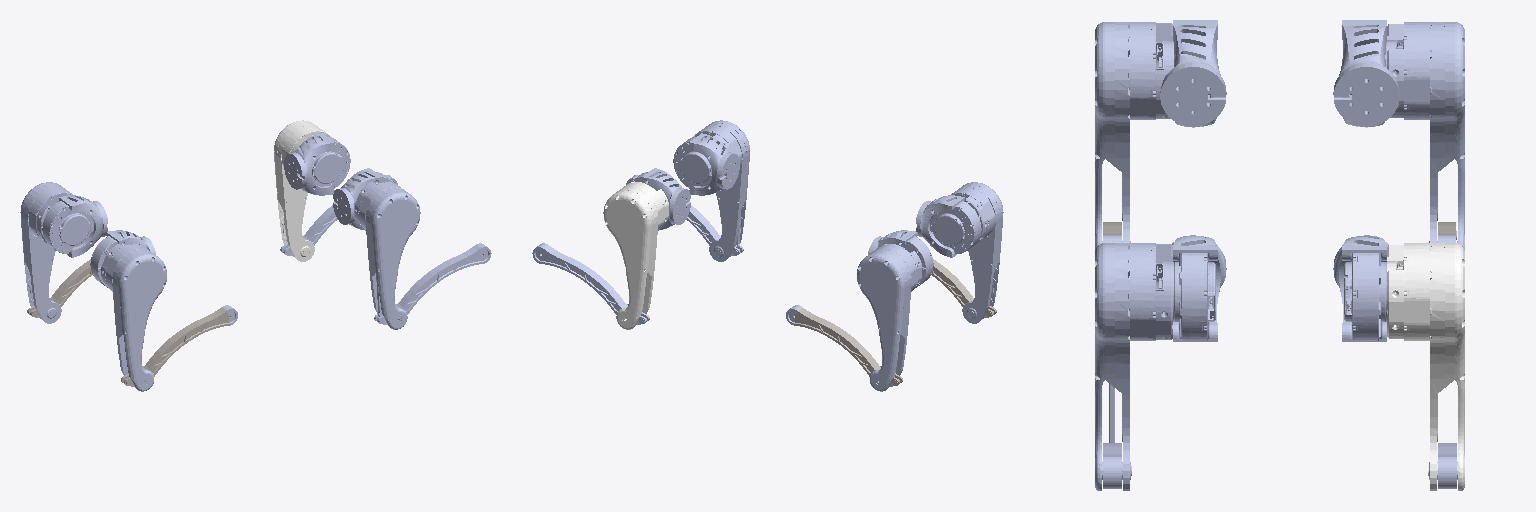
robot.urdf — GO2:
<?xml version='1.0' encoding='utf-8'?>
<robot name="GO2">
  <link name="base_link">
    <visual>
      <origin xyz="0 0 0" rpy="0 0 0" />
      <geometry>
        <mesh filename="meshes/base_link.STL" />
      </geometry>
      <material name="auto_material_01">
        <color rgba="1.00000000 1.00000000 1.00000000 1.00000000" />
      </material>
    </visual>
    <inertial>
      <origin xyz="0.0089931 0.0049655 -0.0088502" rpy="0 0 0" />
      <mass value="4.1255996" />
      <inertia ixx="0.0095235" ixy="-0.0000055" ixz="0.0000001" iyy="0.0116817" iyz="0" izz="0.0165032" />
    </inertial>
  </link>
  <link name="FL_hip">
    <visual>
      <origin xyz="0 0 0" rpy="0 0 0" />
      <geometry>
        <mesh filename="meshes/FL_hip.STL" />
      </geometry>
      <material name="auto_material_02">
        <color rgba="0.79608000 0.82353000 0.93725000 1.00000000" />
      </material>
    </visual>
    <inertial>
      <origin xyz="0.047304 -0.0004014 0.0000785" rpy="0 0 0" />
      <mass value="0.29039" />
      <inertia ixx="0.0002169" ixy="-0.000003" ixz="0.0000004" iyy="0.0003315" iyz="0" izz="0.000175" />
    </inertial>
  </link>
  <link name="FL_thigh">
    <visual>
      <origin xyz="0 0 0" rpy="0 0 0" />
      <geometry>
        <mesh filename="meshes/FL_thigh.STL" />
      </geometry>
      <material name="auto_material_03">
        <color rgba="1.00000000 1.00000000 1.00000000 1.00000000" />
      </material>
    </visual>
    <inertial>
      <origin xyz="-0.0028202 0.042698 -0.0252155" rpy="0 0 0" />
      <mass value="0.5538004" />
      <inertia ixx="0.0013035" ixy="0.0000011" ixz="0.0000788" iyy="0.0015743" iyz="0.0000081" izz="0.0002945" />
    </inertial>
  </link>
  <link name="FL_calf">
    <visual>
      <origin xyz="0 0 0" rpy="0 0 0" />
      <geometry>
        <mesh filename="meshes/FL_calf.STL" />
      </geometry>
      <material name="auto_material_04">
        <color rgba="0.79608000 0.82353000 0.93725000 1.00000000" />
      </material>
    </visual>
    <inertial>
      <origin xyz="0.0095591 0.0000034 -0.077011" rpy="0 0 0" />
      <mass value="0.083926" />
      <inertia ixx="0.0003532" ixy="0" ixz="-0.0000119" iyy="0.0003585" iyz="0" izz="0.0000093" />
    </inertial>
  </link>
  <link name="FL_foot">
    <visual>
      <origin xyz="0 0 0" rpy="0 0 0" />
      <geometry>
        <mesh filename="meshes/FL_foot.STL" />
      </geometry>
      <material name="auto_material_05">
        <color rgba="0.79607843 0.82352941 0.93725490 1.00000000" />
      </material>
    </visual>
    <collision>
      <origin xyz="-0.0000126 0 0.0118098" rpy="0 0 0" />
      <geometry>
        <sphere radius="0.014796" />
      </geometry>
    </collision>
    <inertial>
      <origin xyz="-0.0011417 0 0.0103123" rpy="0 0 0" />
      <mass value="0.0083244" />
      <inertia ixx="0.0000004" ixy="0" ixz="-0.0000001" iyy="0.0000009" iyz="0" izz="0.0000008" />
    </inertial>
  </link>
  <link name="FR_hip">
    <visual>
      <origin xyz="0 0 0" rpy="0 0 0" />
      <geometry>
        <mesh filename="meshes/FR_hip.STL" />
      </geometry>
      <material name="auto_material_06">
        <color rgba="0.79607843 0.82352941 0.93725490 1.00000000" />
      </material>
    </visual>
    <inertial>
      <origin xyz="0.0473043 0.0003998 -0.0000521" rpy="0 0 0" />
      <mass value="0.2903942" />
      <inertia ixx="0.0002169" ixy="0.000003" ixz="-0.0000004" iyy="0.0003315" iyz="0" izz="0.000175" />
    </inertial>
  </link>
  <link name="FR_thigh">
    <visual>
      <origin xyz="0 0 0" rpy="0 0 0" />
      <geometry>
        <mesh filename="meshes/FR_thigh.STL" />
      </geometry>
      <material name="auto_material_07">
        <color rgba="0.79608000 0.82353000 0.93725000 1.00000000" />
      </material>
    </visual>
    <inertial>
      <origin xyz="-0.0032999 -0.042913 -0.026306" rpy="0 0 0" />
      <mass value="0.56127" />
      <inertia ixx="0.00132" ixy="-0.0000011" ixz="0.0000812" iyy="0.0015926" iyz="-0.0000082" izz="0.0002964" />
    </inertial>
  </link>
  <link name="FR_calf">
    <visual>
      <origin xyz="0 0 0" rpy="0 0 0" />
      <geometry>
        <mesh filename="meshes/FR_calf.STL" />
      </geometry>
      <material name="auto_material_08">
        <color rgba="0.79607843 0.82352941 0.93725490 1.00000000" />
      </material>
    </visual>
    <inertial>
      <origin xyz="0.0095591 -0.000005 -0.0770108" rpy="0 0 0" />
      <mass value="0.0839255" />
      <inertia ixx="0.0003532" ixy="0" ixz="-0.0000119" iyy="0.0003585" iyz="0" izz="0.0000093" />
    </inertial>
  </link>
  <link name="FR_foot">
    <visual>
      <origin xyz="0 0 0" rpy="0 0 0" />
      <geometry>
        <mesh filename="meshes/FR_foot.STL" />
      </geometry>
      <material name="auto_material_09">
        <color rgba="0.79607843 0.82352941 0.93725490 1.00000000" />
      </material>
    </visual>
    <collision>
      <origin xyz="-0.0000126 0 0.0118098" rpy="0 0 0" />
      <geometry>
        <sphere radius="0.014796" />
      </geometry>
    </collision>
    <inertial>
      <origin xyz="-0.0011417 0 0.0103123" rpy="0 0 0" />
      <mass value="0.0083244" />
      <inertia ixx="0.0000004" ixy="0" ixz="-0.0000001" iyy="0.0000009" iyz="0" izz="0.0000008" />
    </inertial>
  </link>
  <link name="RL_hip">
    <visual>
      <origin xyz="0 0 0" rpy="0 0 0" />
      <geometry>
        <mesh filename="meshes/RL_hip.STL" />
      </geometry>
      <material name="auto_material_10">
        <color rgba="0.79607843 0.82352941 0.93725490 1.00000000" />
      </material>
    </visual>
    <inertial>
      <origin xyz="-0.0473043 -0.0004014 -0.0000785" rpy="0 0 0" />
      <mass value="0.2903942" />
      <inertia ixx="0.0002169" ixy="0.000003" ixz="0.0000004" iyy="0.0003315" iyz="0" izz="0.000175" />
    </inertial>
  </link>
  <link name="RL_thigh">
    <visual>
      <origin xyz="0 0 0" rpy="0 0 0" />
      <geometry>
        <mesh filename="meshes/RL_thigh.STL" />
      </geometry>
      <material name="auto_material_11">
        <color rgba="0.79607843 0.82352941 0.93725490 1.00000000" />
      </material>
    </visual>
    <inertial>
      <origin xyz="-0.0028225 0.0426963 -0.0252023" rpy="0 0 0" />
      <mass value="0.5536703" />
      <inertia ixx="0.0013035" ixy="0.0000011" ixz="0.0000788" iyy="0.0015743" iyz="0.0000081" izz="0.0002945" />
    </inertial>
  </link>
  <link name="RL_calf">
    <visual>
      <origin xyz="0 0 0" rpy="0 0 0" />
      <geometry>
        <mesh filename="meshes/RL_calf.STL" />
      </geometry>
      <material name="auto_material_12">
        <color rgba="0.77647059 0.75686275 0.73725490 1.00000000" />
      </material>
    </visual>
    <inertial>
      <origin xyz="0.0095591 0.0000034 -0.0770108" rpy="0 0 0" />
      <mass value="0.0839255" />
      <inertia ixx="0.0003532" ixy="0" ixz="-0.0000119" iyy="0.0003585" iyz="0" izz="0.0000093" />
    </inertial>
  </link>
  <link name="RL_foot">
    <visual>
      <origin xyz="0 0 0" rpy="0 0 0" />
      <geometry>
        <mesh filename="meshes/RL_foot.STL" />
      </geometry>
      <material name="auto_material_13">
        <color rgba="0.79607843 0.82352941 0.93725490 1.00000000" />
      </material>
    </visual>
    <collision>
      <origin xyz="-0.0000126 0 0.0118098" rpy="0 0 0" />
      <geometry>
        <sphere radius="0.014796" />
      </geometry>
    </collision>
    <inertial>
      <origin xyz="-0.0011417 0 0.0103123" rpy="0 0 0" />
      <mass value="0.0083244" />
      <inertia ixx="0.0000004" ixy="0" ixz="-0.0000001" iyy="0.0000009" iyz="0" izz="0.0000008" />
    </inertial>
  </link>
  <link name="RR_hip">
    <visual>
      <origin xyz="0 0 0" rpy="0 0 0" />
      <geometry>
        <mesh filename="meshes/RR_hip.STL" />
      </geometry>
      <material name="auto_material_14">
        <color rgba="0.79607843 0.82352941 0.93725490 1.00000000" />
      </material>
    </visual>
    <inertial>
      <origin xyz="-0.0473043 0.0003998 0.0000521" rpy="0 0 0" />
      <mass value="0.2903942" />
      <inertia ixx="0.0002169" ixy="-0.000003" ixz="-0.0000004" iyy="0.0003315" iyz="0" izz="0.000175" />
    </inertial>
  </link>
  <link name="RR_thigh">
    <visual>
      <origin xyz="0 0 0" rpy="0 0 0" />
      <geometry>
        <mesh filename="meshes/RR_thigh.STL" />
      </geometry>
      <material name="auto_material_15">
        <color rgba="0.79607843 0.82352941 0.93725490 1.00000000" />
      </material>
    </visual>
    <inertial>
      <origin xyz="-0.0028794 -0.0426709 -0.025146" rpy="0 0 0" />
      <mass value="0.5530314" />
      <inertia ixx="0.0013014" ixy="-0.0000011" ixz="0.0000823" iyy="0.0015739" iyz="-0.0000081" izz="0.0002962" />
    </inertial>
  </link>
  <link name="RR_calf">
    <visual>
      <origin xyz="0 0 0" rpy="0 0 0" />
      <geometry>
        <mesh filename="meshes/RR_calf.STL" />
      </geometry>
      <material name="auto_material_16">
        <color rgba="0.77647059 0.75686275 0.73725490 1.00000000" />
      </material>
    </visual>
    <inertial>
      <origin xyz="0.0095591 -0.000005 -0.0770108" rpy="0 0 0" />
      <mass value="0.0839255" />
      <inertia ixx="0.0003532" ixy="0" ixz="-0.0000119" iyy="0.0003585" iyz="0" izz="0.0000093" />
    </inertial>
  </link>
  <link name="RR_foot">
    <visual>
      <origin xyz="0 0 0" rpy="0 0 0" />
      <geometry>
        <mesh filename="meshes/RR_foot.STL" />
      </geometry>
      <material name="auto_material_17">
        <color rgba="0.79607843 0.82352941 0.93725490 1.00000000" />
      </material>
    </visual>
    <collision>
      <origin xyz="-0.0000126 0 0.0118098" rpy="0 0 0" />
      <geometry>
        <sphere radius="0.014796" />
      </geometry>
    </collision>
    <inertial>
      <origin xyz="-0.0011417 0 0.0103123" rpy="0 0 0" />
      <mass value="0.0083244" />
      <inertia ixx="0.0000004" ixy="0" ixz="-0.0000001" iyy="0.0000009" iyz="0" izz="0.0000008" />
    </inertial>
  </link>
  <joint name="FL_hip_joint" type="revolute">
    <parent link="base_link" />
    <child link="FL_hip" />
    <origin xyz="0.1966 0.085001 0.0024868" rpy="0 0 0" />
    <axis xyz="1 0 0" />
    <limit lower="-0.35" upper="0.35" effort="1.4" velocity="1.4" />
  </joint>
  <joint name="FL_thigh_joint" type="revolute">
    <parent link="FL_hip" />
    <child link="FL_thigh" />
    <origin xyz="0.059999 0.020399 0" rpy="0 0 0" />
    <axis xyz="0 1 0" />
    <limit lower="-0.2" upper="1.4" effort="8" velocity="10" />
  </joint>
  <joint name="FL_calf_joint" type="revolute">
    <parent link="FL_thigh" />
    <child link="FL_calf" />
    <origin xyz="0 0.0591 -0.19399" rpy="0 0 0" />
    <axis xyz="0 1 0" />
    <limit lower="-2.8" upper="-1.2" effort="8" velocity="10" />
  </joint>
  <joint name="FL_foot_joint" type="fixed">
    <parent link="FL_calf" />
    <child link="FL_foot" />
    <origin xyz="0 0 -0.21" rpy="0 0 0" />
  </joint>
  <joint name="FR_hip_joint" type="revolute">
    <parent link="base_link" />
    <child link="FR_hip" />
    <origin xyz="0.1966 -0.0849992 0.0024868" rpy="0 0 0" />
    <axis xyz="1 0 0" />
    <limit lower="-0.35" upper="0.35" effort="8" velocity="10" />
  </joint>
  <joint name="FR_thigh_joint" type="revolute">
    <parent link="FR_hip" />
    <child link="FR_thigh" />
    <origin xyz="0.0599992 -0.0204008 0.0000265" rpy="0 0 0" />
    <axis xyz="0 1 0" />
    <limit lower="-0.2" upper="1.4" effort="8" velocity="10" />
  </joint>
  <joint name="FR_calf_joint" type="revolute">
    <parent link="FR_thigh" />
    <child link="FR_calf" />
    <origin xyz="0 -0.0591 -0.1940129" rpy="0 0 0" />
    <axis xyz="0 1 0" />
    <limit lower="-2.8" upper="-1.2" effort="8" velocity="10" />
  </joint>
  <joint name="FR_foot_joint" type="fixed">
    <parent link="FR_calf" />
    <child link="FR_foot" />
    <origin xyz="0 0 -0.21" rpy="0 0 0" />
  </joint>
  <joint name="RL_hip_joint" type="revolute">
    <parent link="base_link" />
    <child link="RL_hip" />
    <origin xyz="-0.1966 0.0850008 0.0025132" rpy="0 0 0" />
    <axis xyz="1 0 0" />
    <limit lower="-0.35" upper="0.35" effort="8" velocity="10" />
  </joint>
  <joint name="RL_thigh_joint" type="revolute">
    <parent link="RL_hip" />
    <child link="RL_thigh" />
    <origin xyz="-0.0599992 0.0203992 0" rpy="0 0 0" />
    <axis xyz="0 1 0" />
    <limit lower="-0.2" upper="1.4" effort="8" velocity="10" />
  </joint>
  <joint name="RL_calf_joint" type="revolute">
    <parent link="RL_thigh" />
    <child link="RL_calf" />
    <origin xyz="0 0.05865 -0.1940135" rpy="0 0 0" />
    <axis xyz="0 1 0" />
    <limit lower="-2.8" upper="-1.2" effort="8" velocity="10" />
  </joint>
  <joint name="RL_foot_joint" type="fixed">
    <parent link="RL_calf" />
    <child link="RL_foot" />
    <origin xyz="0 0 -0.21" rpy="0 0 0" />
  </joint>
  <joint name="RR_hip_joint" type="revolute">
    <parent link="base_link" />
    <child link="RR_hip" />
    <origin xyz="-0.1966 -0.0849992 0.0025132" rpy="0 0 0" />
    <axis xyz="1 0 0" />
    <limit lower="-0.35" upper="0.35" effort="8" velocity="10" />
  </joint>
  <joint name="RR_thigh_joint" type="revolute">
    <parent link="RR_hip" />
    <child link="RR_thigh" />
    <origin xyz="-0.059999 -0.020401 -0.0000265" rpy="0 0 0" />
    <axis xyz="0 1 0" />
    <limit lower="-0.2" upper="1.4" effort="8" velocity="10" />
  </joint>
  <joint name="RR_calf_joint" type="revolute">
    <parent link="RR_thigh" />
    <child link="RR_calf" />
    <origin xyz="0 -0.0591 -0.1939865" rpy="0 0 0" />
    <axis xyz="0 1 0" />
    <limit lower="-2.8" upper="-1.2" effort="8" velocity="10" />
  </joint>
  <joint name="RR_foot_joint" type="fixed">
    <parent link="RR_calf" />
    <child link="RR_foot" />
    <origin xyz="0 0 -0.21" rpy="0 0 0" />
  </joint>
</robot>

--- Facts derived from the render (not from the file) ---
Views: 3 orthographic renders of the robot side by side, from view 1: azimuth 30°, elevation 25°; view 2: azimuth 150°, elevation 25°; view 3: azimuth 270°, elevation 25°.
Robot: GO2 — 17 links, 16 joints (12 revolute, 4 fixed); root link base_link; default pose: all joints at 0 but 4 set to mid-range because 0 is outside their limits (FL_calf_joint = -2, FR_calf_joint = -2, RL_calf_joint = -2, RR_calf_joint = -2).
Visible links, largest first — view 1: FR_thigh, RR_thigh, RL_thigh, FL_thigh, FL_hip, RL_hip, RR_calf, FR_calf, FR_hip, RR_hip, RL_calf, FL_calf; view 2: RL_thigh, FL_thigh, RR_thigh, FR_thigh, FR_hip, RR_hip, FL_calf, RL_calf, FL_hip, RL_hip, RR_calf, FR_calf; view 3: FR_thigh, FL_thigh, RR_thigh, RL_thigh, RL_hip, RR_hip, FL_hip, FR_hip, FL_foot, FR_foot.
Link boxes in pixels (x1=…): FR_thigh: x1=355, y1=182, x2=420, y2=329; RR_thigh: x1=101, y1=244, x2=166, y2=391; RL_thigh: x1=20, y1=182, x2=72, y2=323; FL_thigh: x1=274, y1=120, x2=330, y2=261; FL_hip: x1=284, y1=133, x2=350, y2=195; RL_hip: x1=42, y1=195, x2=107, y2=257; RR_calf: x1=121, y1=308, x2=229, y2=386; FR_calf: x1=374, y1=246, x2=482, y2=324; FR_hip: x1=333, y1=168, x2=393, y2=230; RR_hip: x1=90, y1=230, x2=155, y2=287; RL_calf: x1=27, y1=259, x2=92, y2=318; FL_calf: x1=280, y1=205, x2=337, y2=256; RL_thigh: x1=857, y1=244, x2=921, y2=391; FL_thigh: x1=603, y1=182, x2=668, y2=329; RR_thigh: x1=951, y1=182, x2=1003, y2=323; FR_thigh: x1=693, y1=120, x2=749, y2=261; FR_hip: x1=673, y1=133, x2=739, y2=195; RR_hip: x1=916, y1=195, x2=981, y2=257; FL_calf: x1=541, y1=246, x2=649, y2=324; RL_calf: x1=794, y1=308, x2=902, y2=386; FL_hip: x1=630, y1=168, x2=690, y2=230; RL_hip: x1=868, y1=230, x2=933, y2=287; RR_calf: x1=931, y1=259, x2=996, y2=318; FR_calf: x1=686, y1=205, x2=743, y2=256; FR_thigh: x1=1095, y1=243, x2=1172, y2=490; FL_thigh: x1=1387, y1=243, x2=1464, y2=490; RR_thigh: x1=1095, y1=22, x2=1172, y2=249; RL_thigh: x1=1387, y1=22, x2=1464, y2=249; RL_hip: x1=1333, y1=20, x2=1399, y2=127; RR_hip: x1=1160, y1=20, x2=1226, y2=127; FL_hip: x1=1333, y1=235, x2=1388, y2=341; FR_hip: x1=1172, y1=235, x2=1226, y2=341; FL_foot: x1=1438, y1=456, x2=1456, y2=488; FR_foot: x1=1103, y1=456, x2=1121, y2=488.
Bounding box of the posed robot: 0.7538 × 0.363 × 0.2658 m (x, y, z).
16 mesh visuals loaded from 17 distinct referenced files (16 binary STL); not drawn: 1 (reference not matched to a file when rendering).
